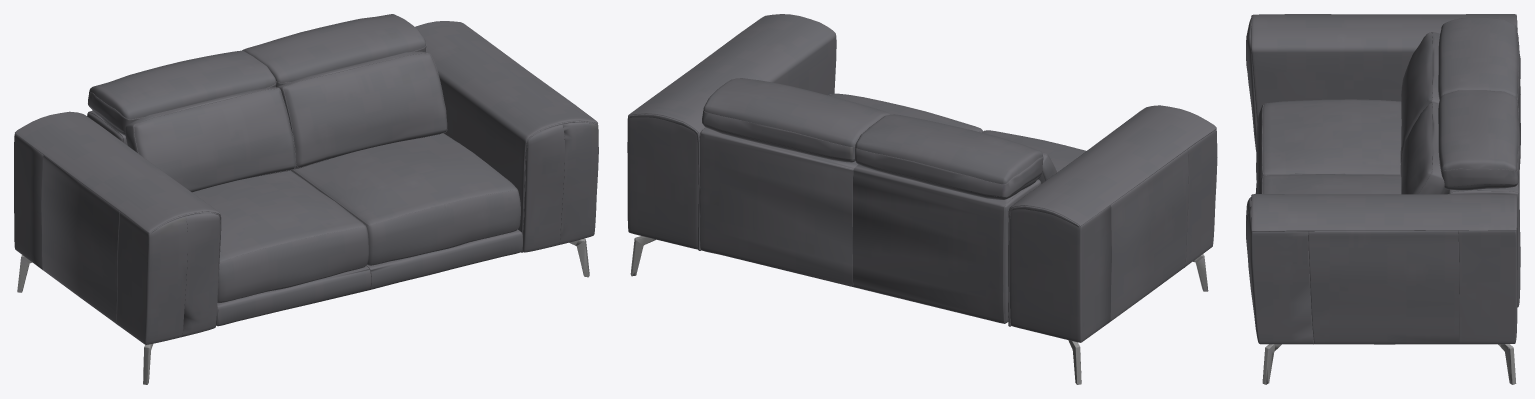
The model's file is B07HPNB4HQ.glb.
3 renders of one model, left to right at view 1: azimuth 30°, elevation 25°; view 2: azimuth 150°, elevation 25°; view 3: azimuth 270°, elevation 25°, orthographic. The views are drawn at different scales.
Parts seen in each view (by area): view 1: RootNode; view 2: RootNode; view 3: RootNode.
Boxes of the visible parts, box(x1,y1,x2,y2) form: RootNode: box(14, 14, 598, 384); RootNode: box(627, 14, 1217, 384); RootNode: box(1246, 14, 1520, 384).
Bounding box in the file's own units: 1.89 × 0.7793 × 1.
Materials: 1 (1 with a texture image).
